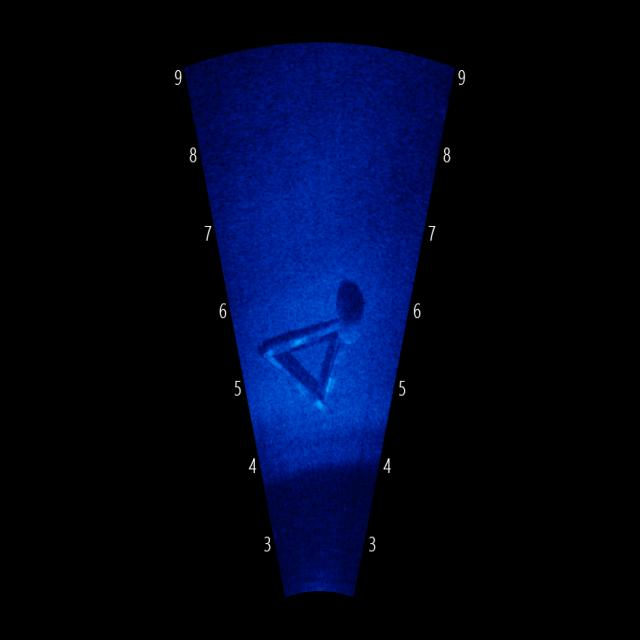triangle: (252, 307, 356, 418)
